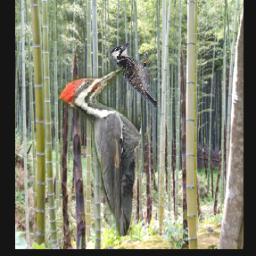Woodpecker: (59, 68, 141, 236), (111, 42, 158, 108)
